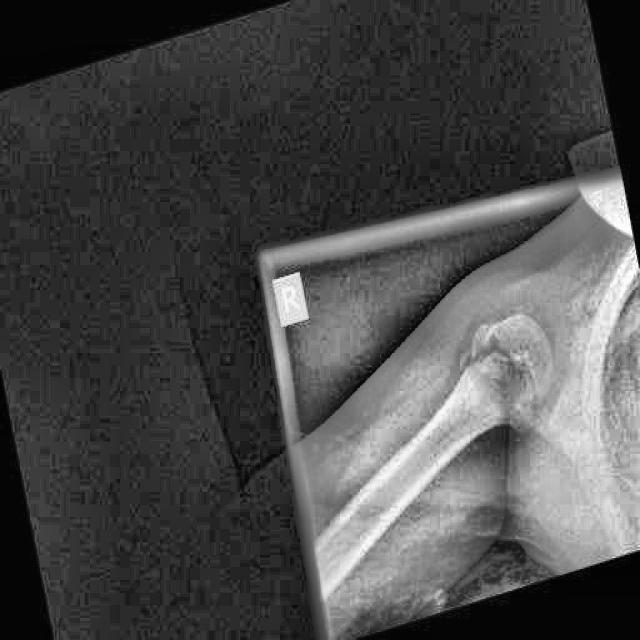shoulder fracture: (438, 296, 531, 408)
